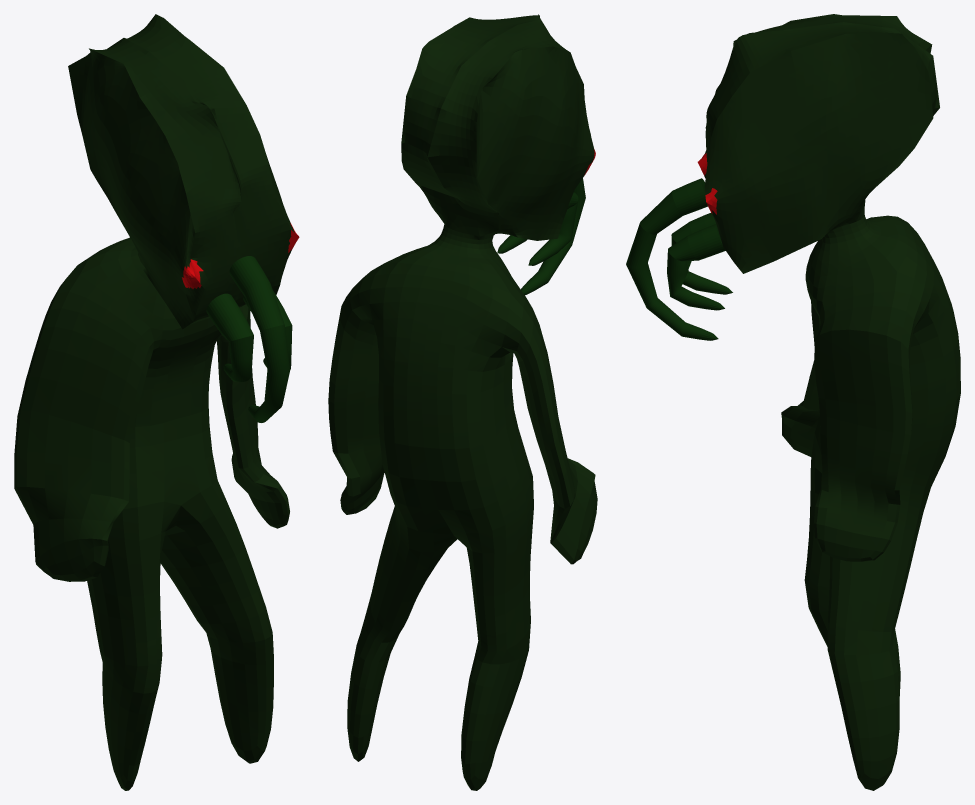
File: Cthulhu.obj
3 renders of one model, left to right at view 1: azimuth 30°, elevation 25°; view 2: azimuth 150°, elevation 25°; view 3: azimuth 270°, elevation 25°, orthographic. The views are drawn at different scales.
Parts seen in each view (by area): view 1: Cube.001_Cube.002_Cube.001_Cube.002mesh.002, Cylinder.002_Cylinder.004, Cylinder.001_Cylinder.003; view 2: Cube.001_Cube.002_Cube.001_Cube.002mesh.002, Cylinder.002_Cylinder.004, Cylinder.001_Cylinder.003; view 3: Cube.001_Cube.002_Cube.001_Cube.002mesh.002, Cylinder.002_Cylinder.004, Cylinder_Cylinder.002, Cylinder.001_Cylinder.003.
Part boxes in pixels (box(x1,y1,x2,y2)): Cube.001_Cube.002_Cube.001_Cube.002mesh.002: box(14, 14, 299, 790); Cylinder.002_Cylinder.004: box(229, 256, 290, 422); Cylinder.001_Cylinder.003: box(206, 293, 253, 381); Cube.001_Cube.002_Cube.001_Cube.002mesh.002: box(328, 14, 597, 790); Cylinder.002_Cylinder.004: box(521, 178, 585, 295); Cylinder.001_Cylinder.003: box(528, 192, 578, 265); Cube.001_Cube.002_Cube.001_Cube.002mesh.002: box(697, 14, 960, 790); Cylinder.002_Cylinder.004: box(626, 178, 718, 340); Cylinder_Cylinder.002: box(667, 224, 725, 310); Cylinder.001_Cylinder.003: box(671, 213, 732, 294).
Size of the model in its own units: 3.33 by 9.94 by 4.18.
